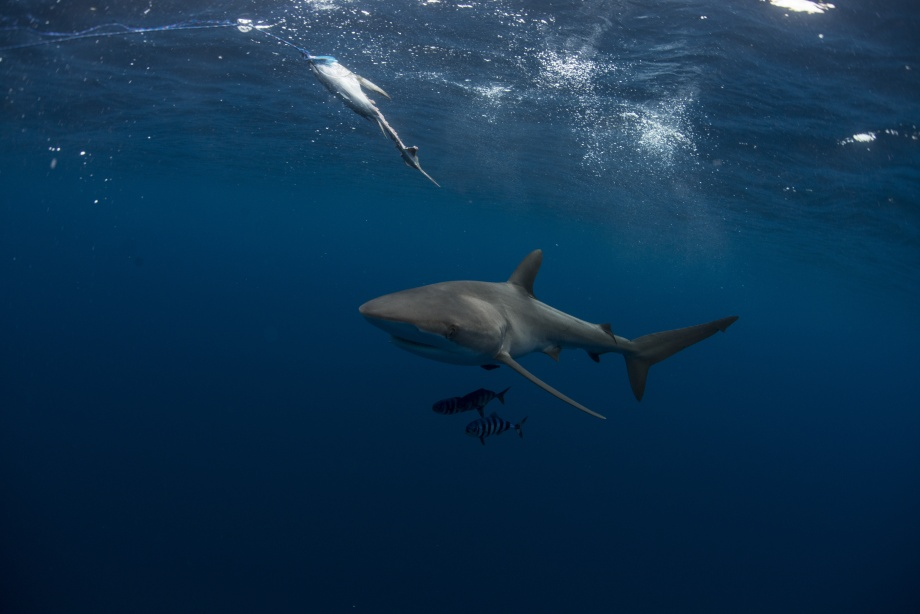Sedoso: (323, 238, 745, 431)
